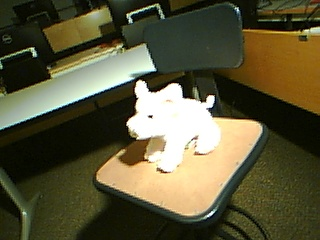piggy: (124, 79, 222, 175)
